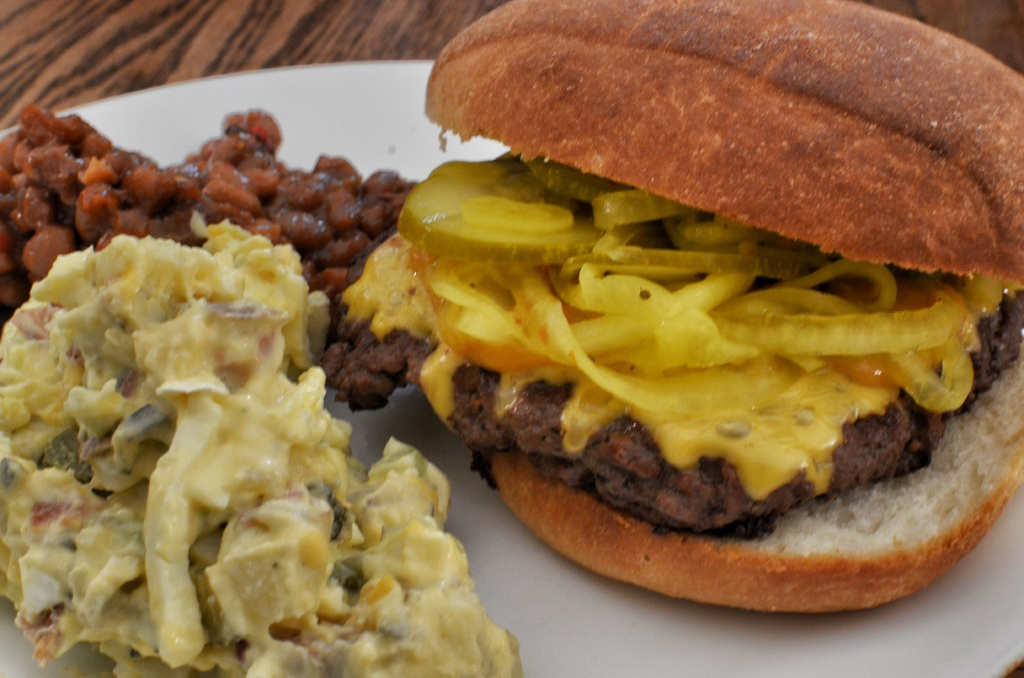Hamburger: (340, 0, 1023, 610)
